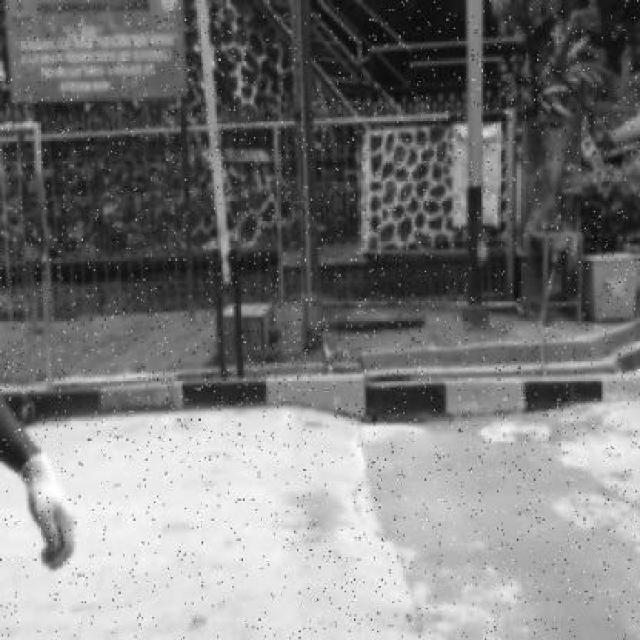Boots: (12, 441, 92, 581)
